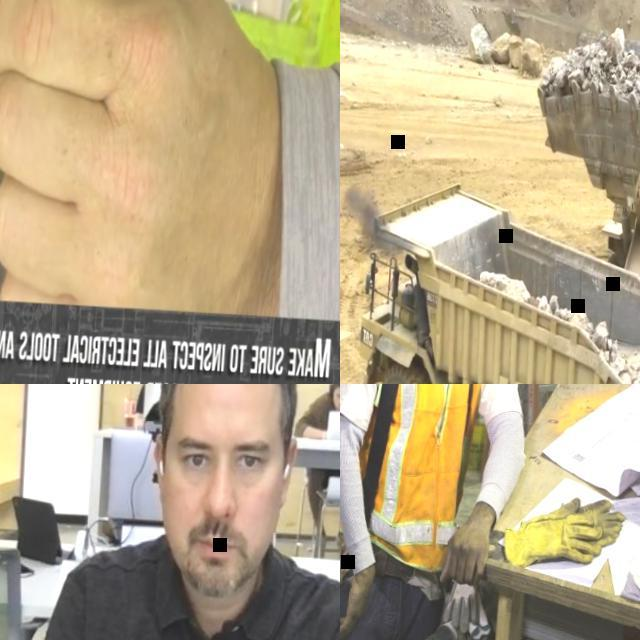machinery: (342, 172, 640, 384), (517, 17, 640, 384)
no_helmet: (173, 384, 302, 404)
no_mask: (172, 520, 264, 597), (335, 395, 340, 408)
no_vest: (77, 565, 328, 640), (317, 394, 340, 431)
person: (0, 0, 340, 322), (7, 384, 340, 640), (340, 384, 545, 640), (290, 384, 340, 550), (134, 384, 177, 412)
vest: (340, 384, 506, 577), (39, 0, 340, 71)
